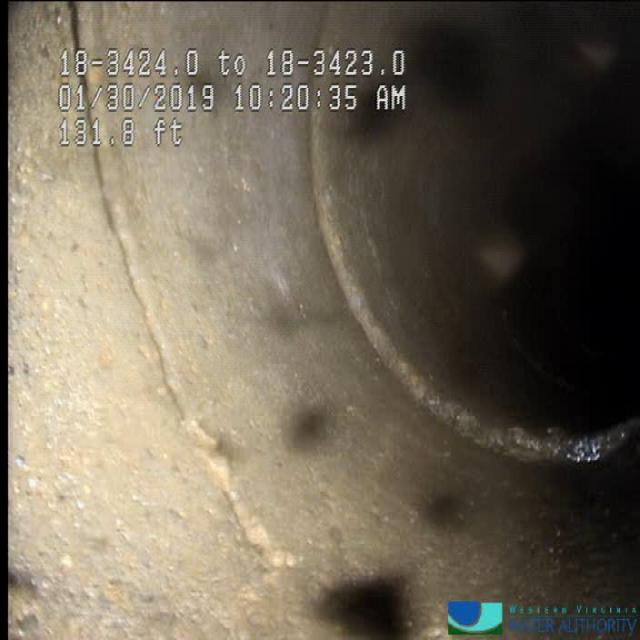Crack: (69, 147, 316, 584)
